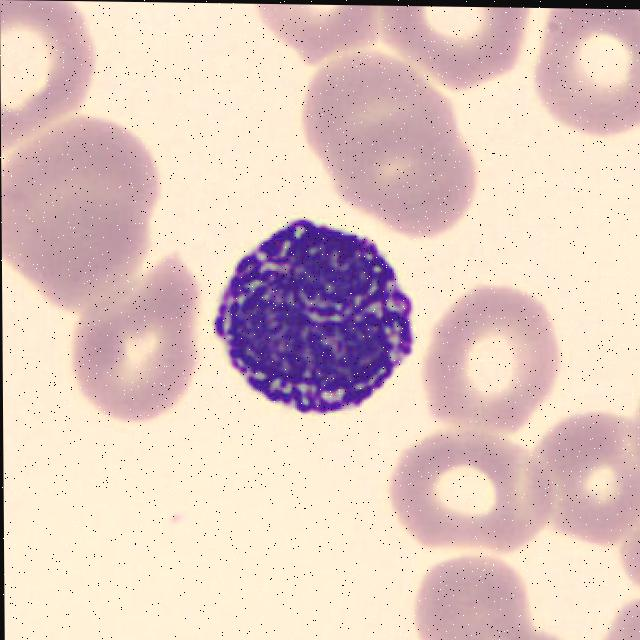basophil: (217, 229, 418, 417)
rbc: (57, 257, 210, 450), (1, 125, 183, 254), (421, 291, 567, 431), (395, 440, 548, 551), (8, 178, 152, 294), (327, 121, 485, 221), (291, 56, 434, 163), (0, 0, 101, 148), (544, 8, 640, 139), (400, 555, 547, 640), (543, 423, 640, 550), (340, 119, 455, 213), (390, 6, 531, 81), (250, 4, 378, 68), (590, 589, 640, 640), (511, 611, 586, 640), (620, 530, 640, 594), (427, 415, 429, 421)
